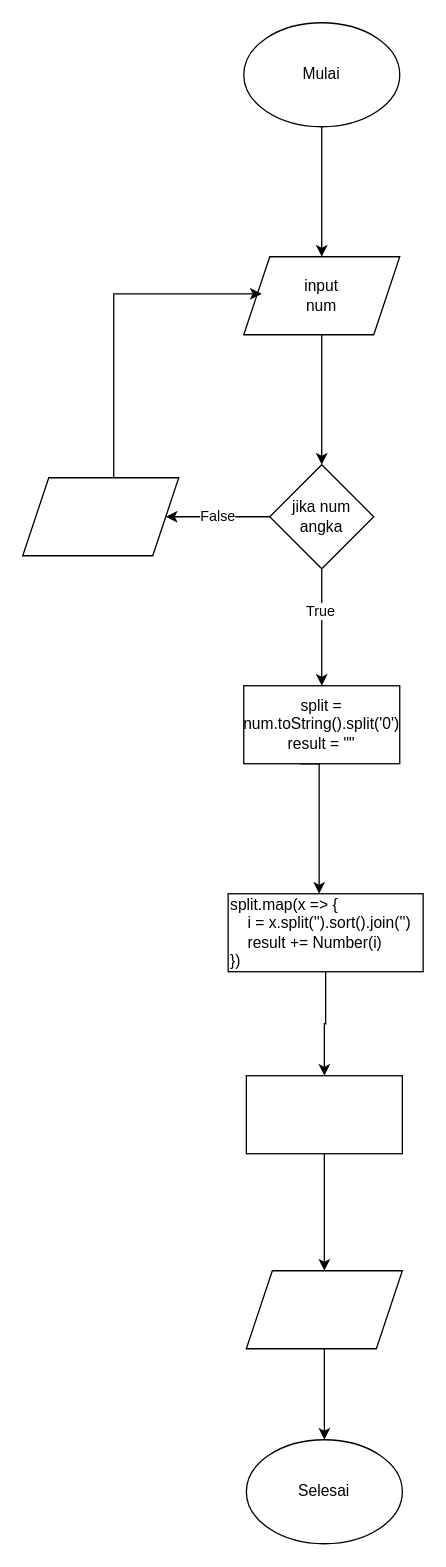
This 446x1567 diagram has some shape labels left out. The shapes that lost their labels are listed below. From the top down, each one's box as (x1, y1, x2, y2) in pixels, then its label:
(21, 476, 179, 556): output "num must be number"
(245, 1074, 402, 1154): output = parseInt(split)
(245, 1269, 402, 1349): Output `output : ${output}`
